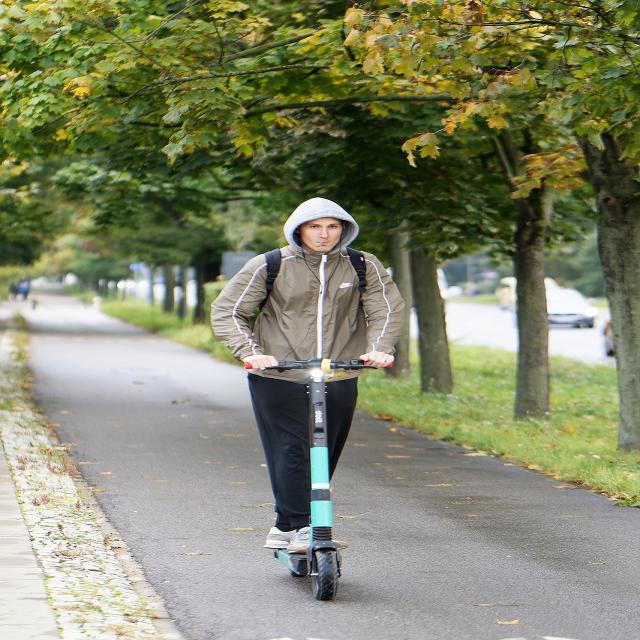non-helmet: (189, 178, 426, 598)
